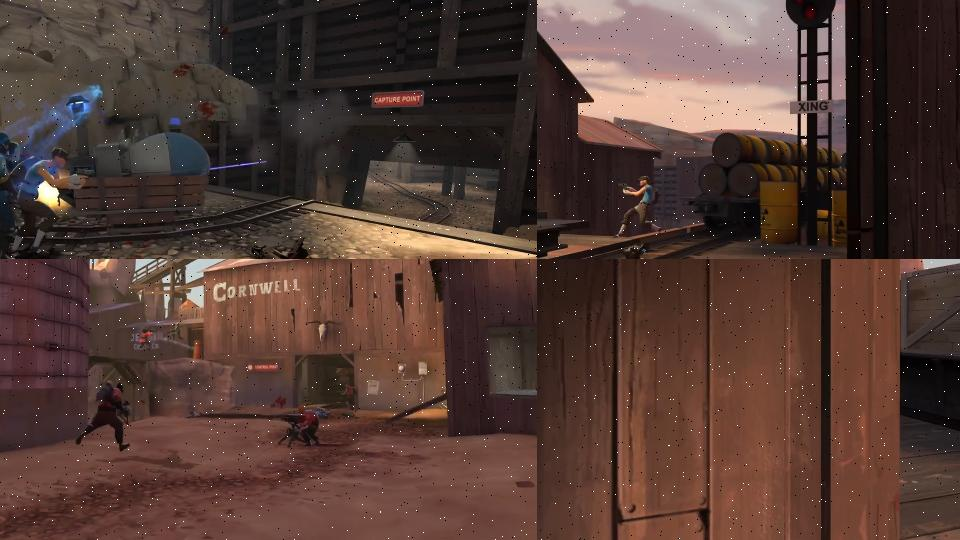Enemy: (6, 145, 93, 259), (73, 377, 143, 463), (614, 175, 665, 239), (0, 136, 23, 259), (297, 403, 321, 447), (335, 381, 356, 410), (139, 326, 155, 352), (168, 322, 185, 340)
